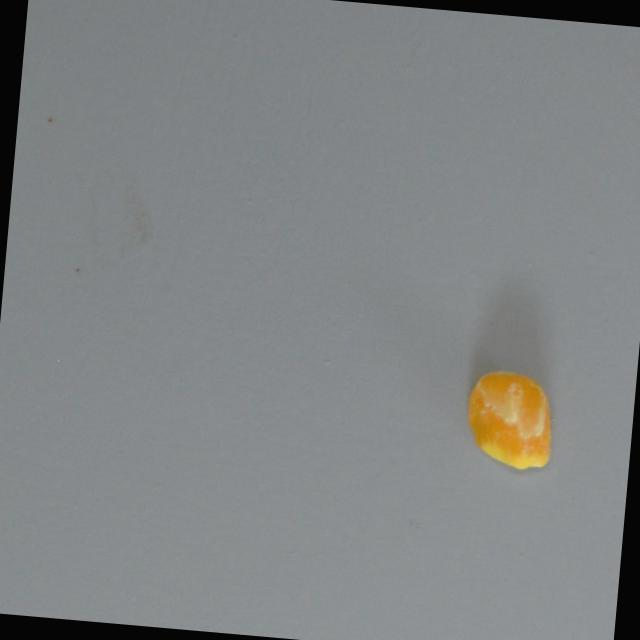pelicula: (457, 365, 560, 473)
